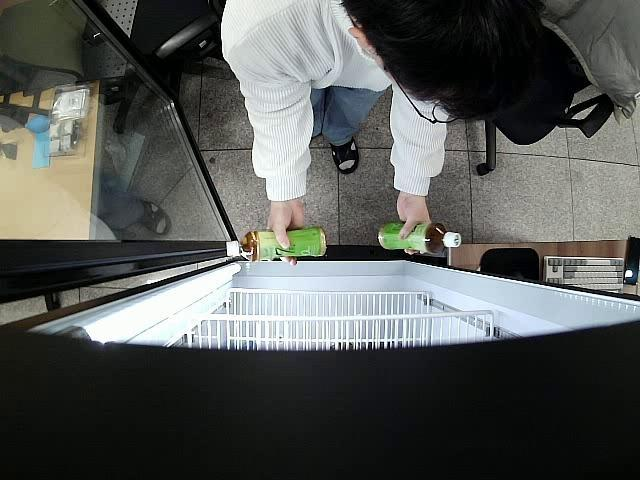19_17cha: (224, 228, 328, 262), (378, 222, 464, 254)
